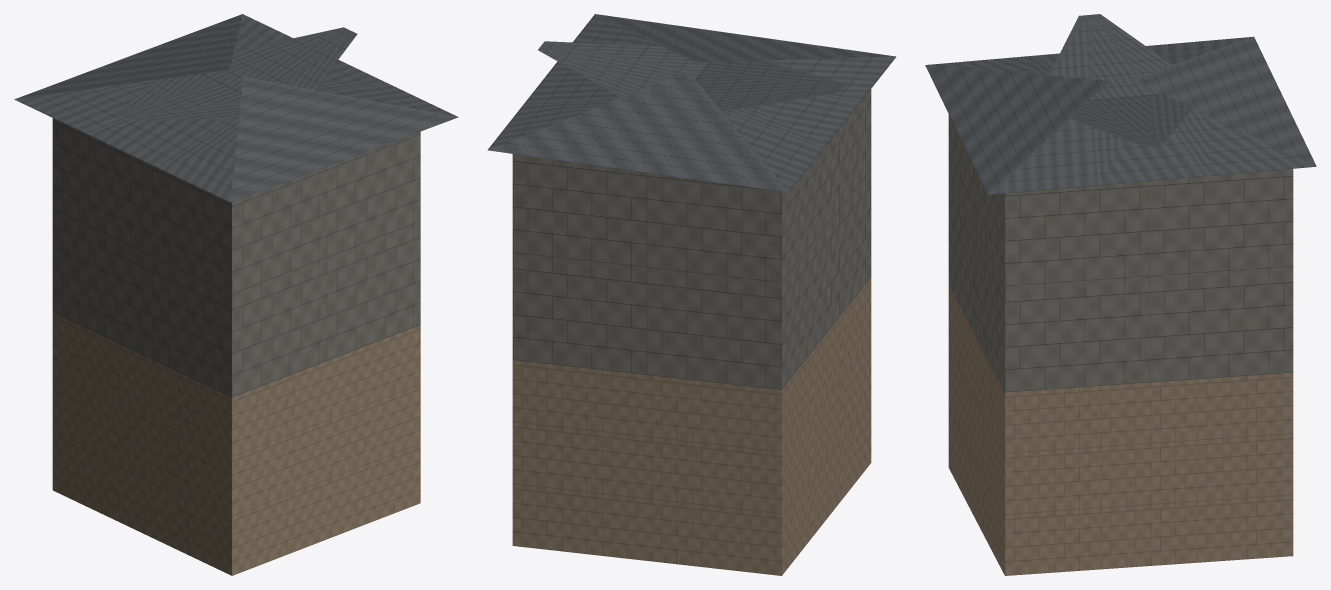
Rendered from bld_c-3_4_536.gltf.
The picture shows the model from 3 angles, left to right: view 1: azimuth 30°, elevation 25°; view 2: azimuth 150°, elevation 25°; view 3: azimuth 270°, elevation 25°; orthographic projection. The views are drawn at different scales.
Visible parts, largest first — view 1: bld_c-3_4_536; view 2: bld_c-3_4_536; view 3: bld_c-3_4_536.
Part boxes in pixels (x1=…): bld_c-3_4_536: x1=14, y1=14, x2=458, y2=575; bld_c-3_4_536: x1=487, y1=14, x2=895, y2=575; bld_c-3_4_536: x1=925, y1=14, x2=1316, y2=575.
Size of the model in its own units: 9.44 by 12 by 9.86.
Materials: 3 (3 with a texture image).
